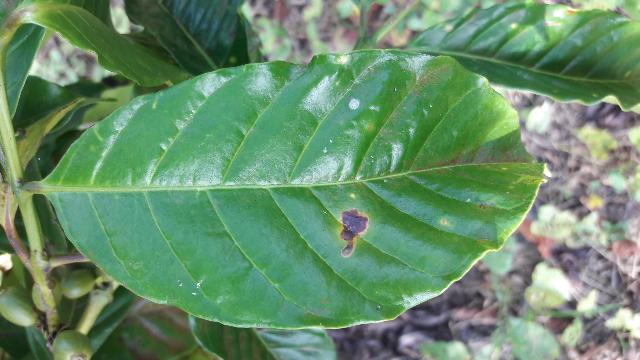red_spider_mite: (41, 50, 542, 328)
